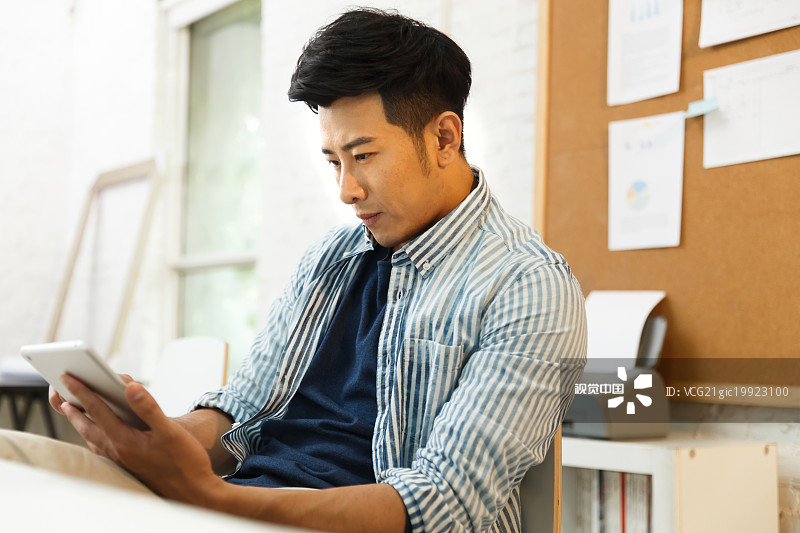reading: (9, 337, 233, 507)
